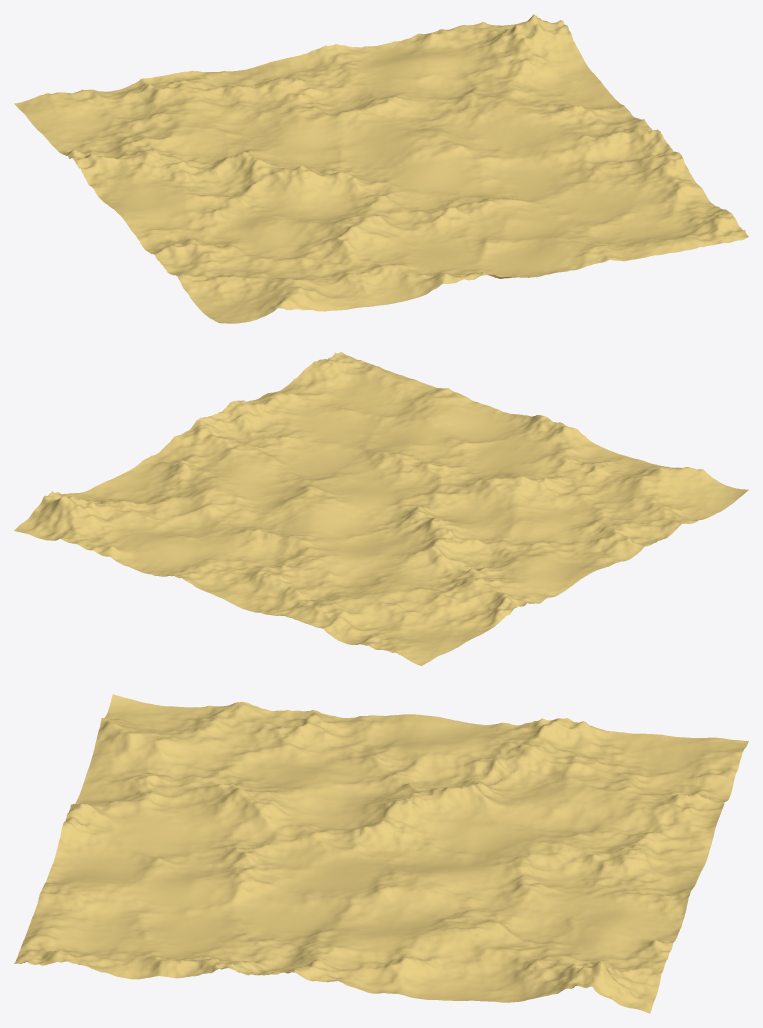
File: BerndZ_Oberflaeche.glb
The picture shows the model from 3 angles, top to bottom: view 1: azimuth 30°, elevation 25°; view 2: azimuth 150°, elevation 25°; view 3: azimuth 270°, elevation 25°; orthographic projection. The views are drawn at different scales.
Visible parts, largest first — view 1: Landscape.003; view 2: Landscape.003; view 3: Landscape.003.
Boxes of the visible parts, bbox=[...] form: Landscape.003: bbox=[14, 14, 748, 323]; Landscape.003: bbox=[14, 352, 748, 665]; Landscape.003: bbox=[14, 694, 748, 1013].
Bounding box in the file's own units: 125 × 6.69 × 125.
